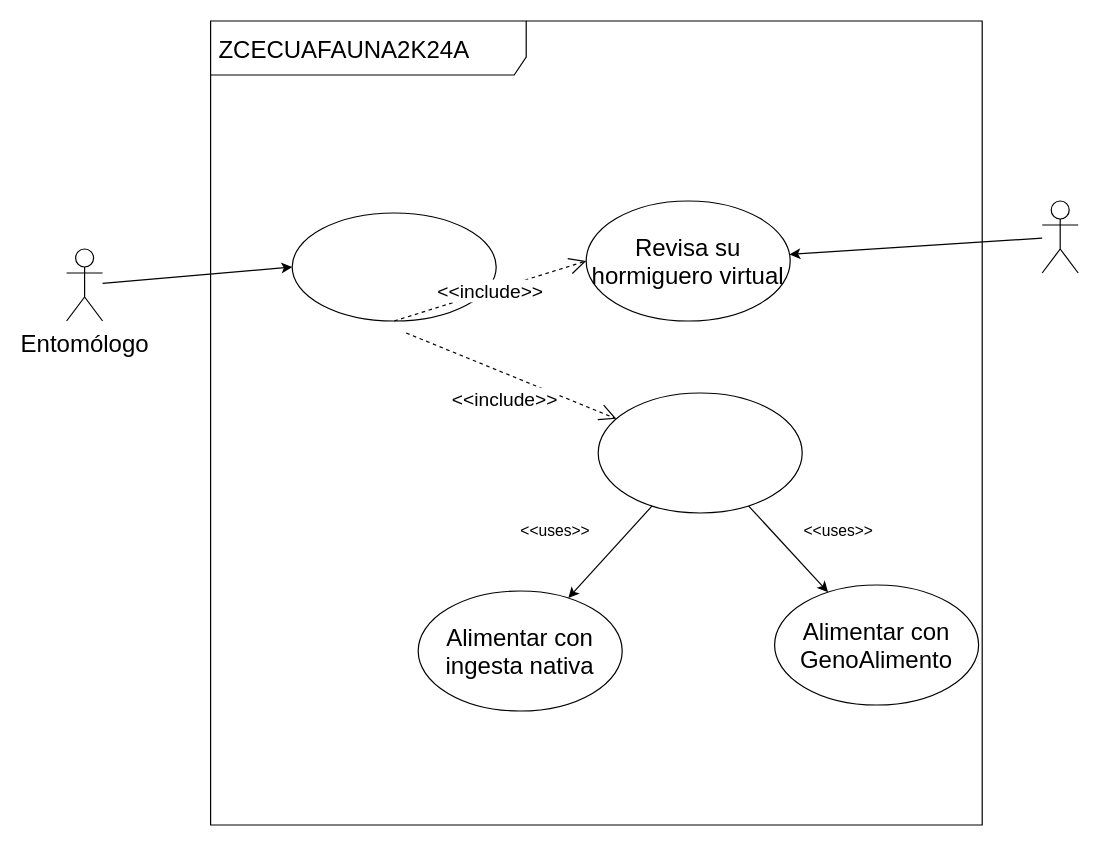
The diagram is 1105 pixels wide and 846 high, and some of its shapes have lost their labels. The shapes that lost their labels are listed below. From the top down, each one's box as (x1, y1, x2, y2) in pixels, then its label:
(1041, 200, 1078, 273): APP
(291, 212, 496, 321): Escribe su nombre y cedula
(597, 392, 802, 513): Crear hormiga larva
